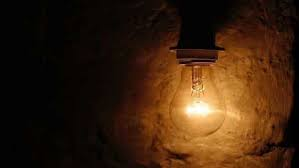bulb: (158, 42, 243, 148)
